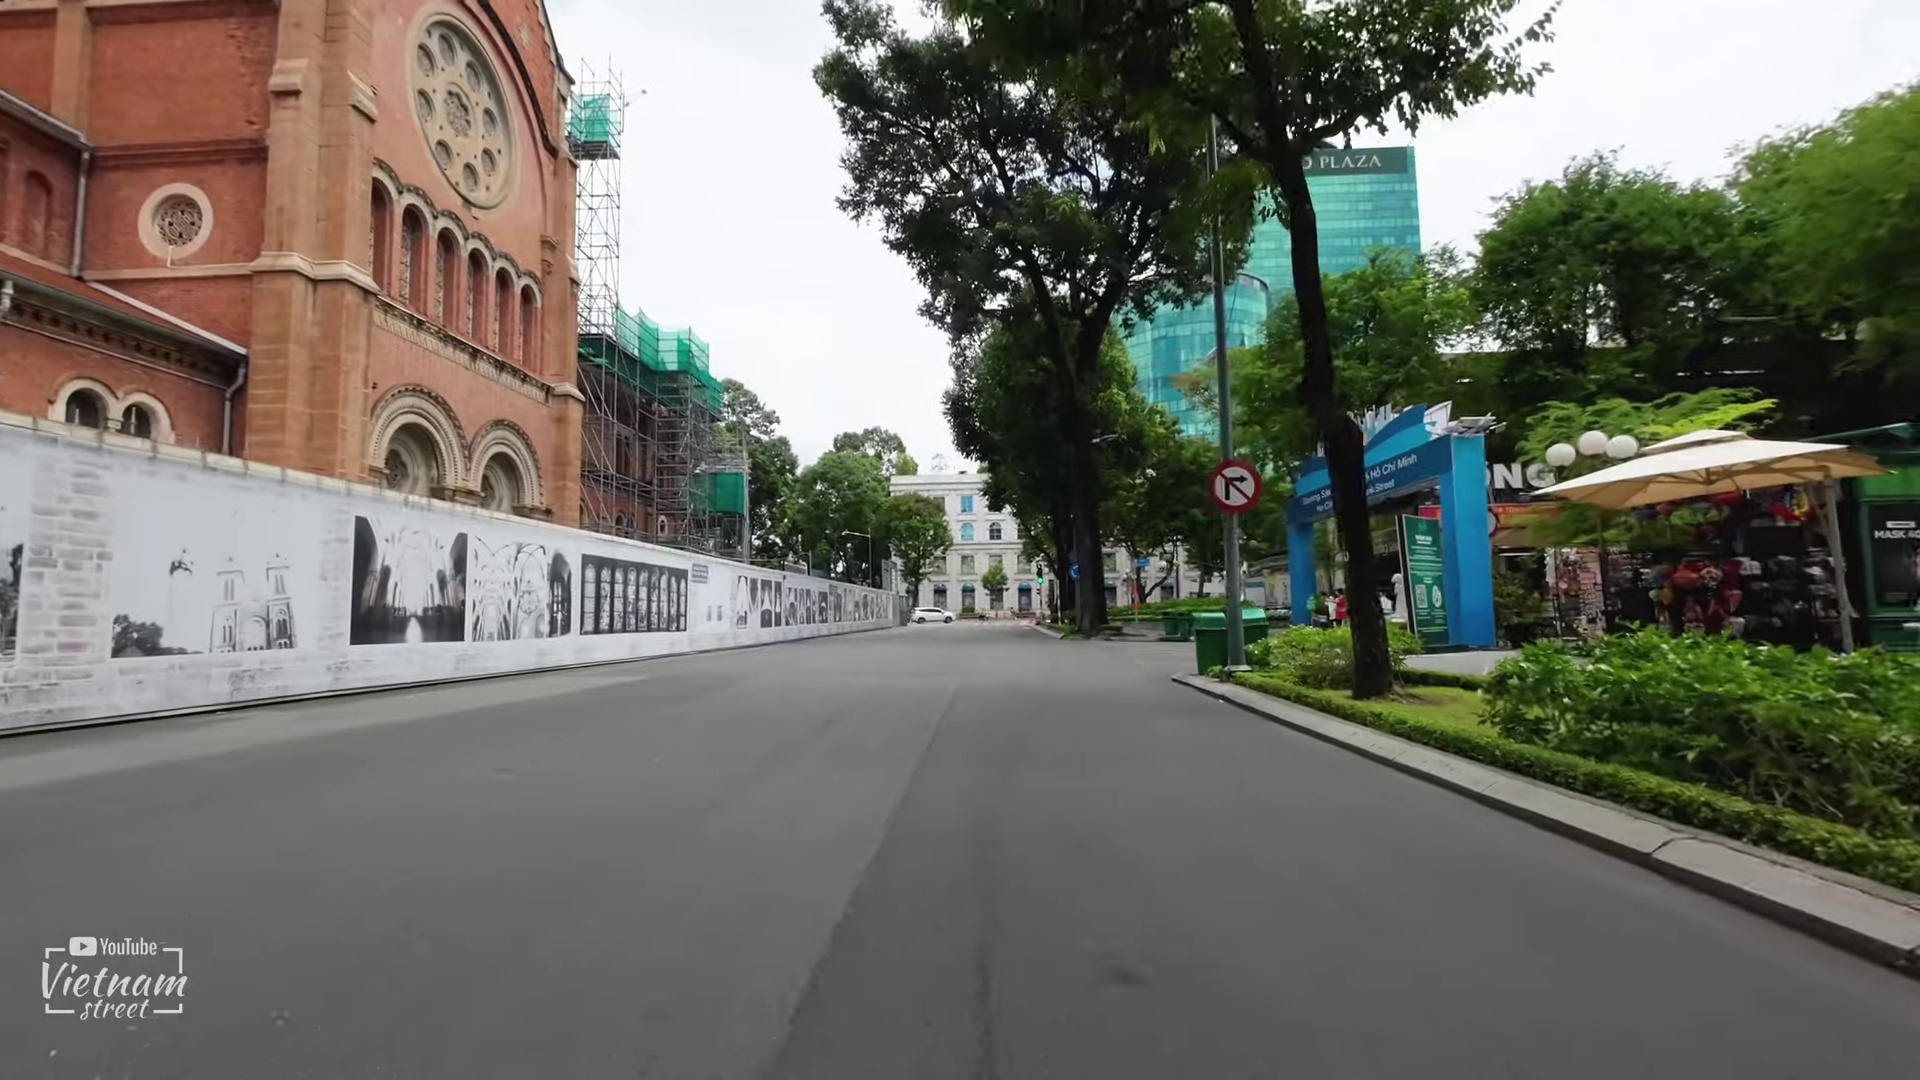cam_re_phai: (1208, 460, 1263, 516)
